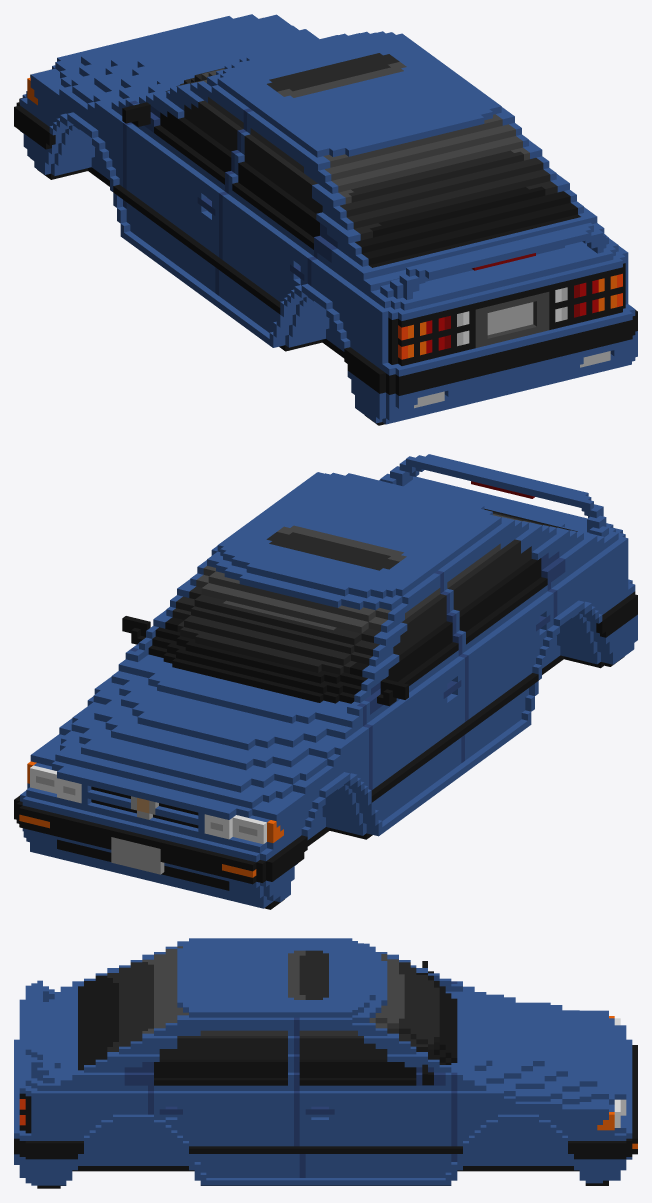
3 renders of one model, top to bottom at view 1: azimuth 30°, elevation 25°; view 2: azimuth 150°, elevation 25°; view 3: azimuth 270°, elevation 25°, orthographic. The views are drawn at different scales.
Parts seen in each view (by area): view 1: VOX; view 2: VOX; view 3: VOX.
Boxes of the visible parts, x1=… form: VOX: x1=14, y1=14, x2=637, y2=425; VOX: x1=14, y1=454, x2=637, y2=909; VOX: x1=14, y1=938, x2=637, y2=1188.
Bounding box in the file's own units: 0.046 × 0.031 × 0.107.
